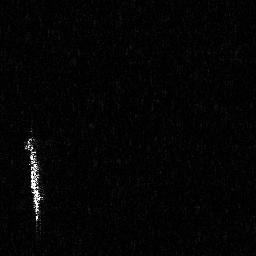ship: (24, 128, 46, 239)
